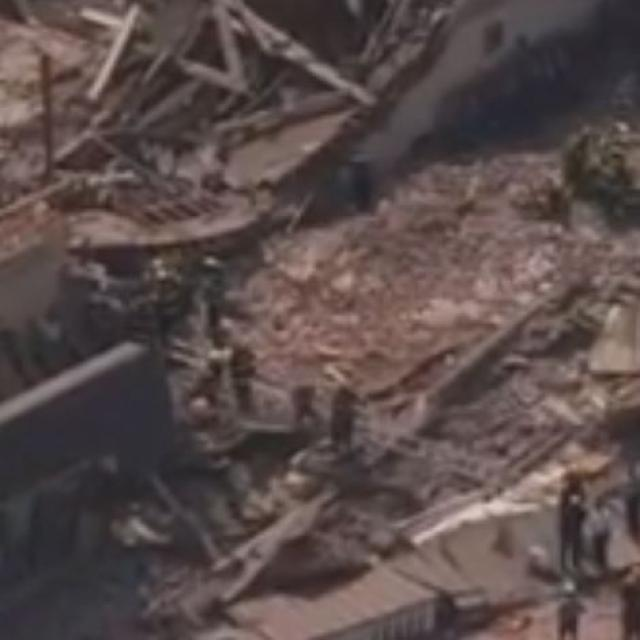collapsed_building: (64, 3, 633, 424)
